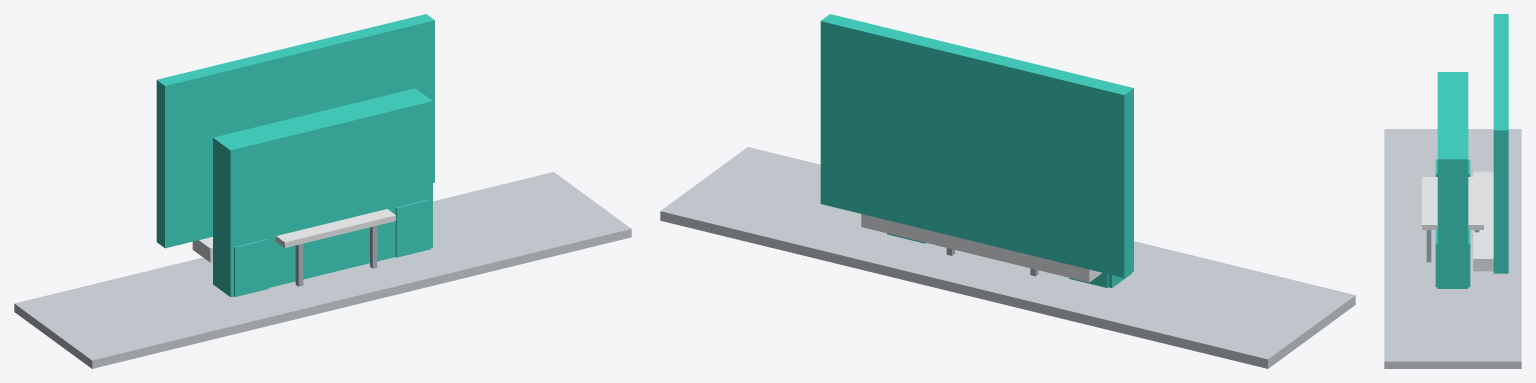
3 views of the same model, side by side, from view 1: azimuth 30°, elevation 25°; view 2: azimuth 150°, elevation 25°; view 3: azimuth 270°, elevation 25° (orthographic). The views are drawn at different scales.
Parts seen in each view (by area): view 1: Exhibition Booth Concept; view 2: Exhibition Booth Concept; view 3: Exhibition Booth Concept.
Boxes of the visible parts, x1,y1,x2,y2 form: Exhibition Booth Concept: (14, 14, 631, 368); Exhibition Booth Concept: (660, 14, 1355, 368); Exhibition Booth Concept: (1384, 14, 1521, 368).
Size of the model in its own units: 8 by 2.9 by 2.
